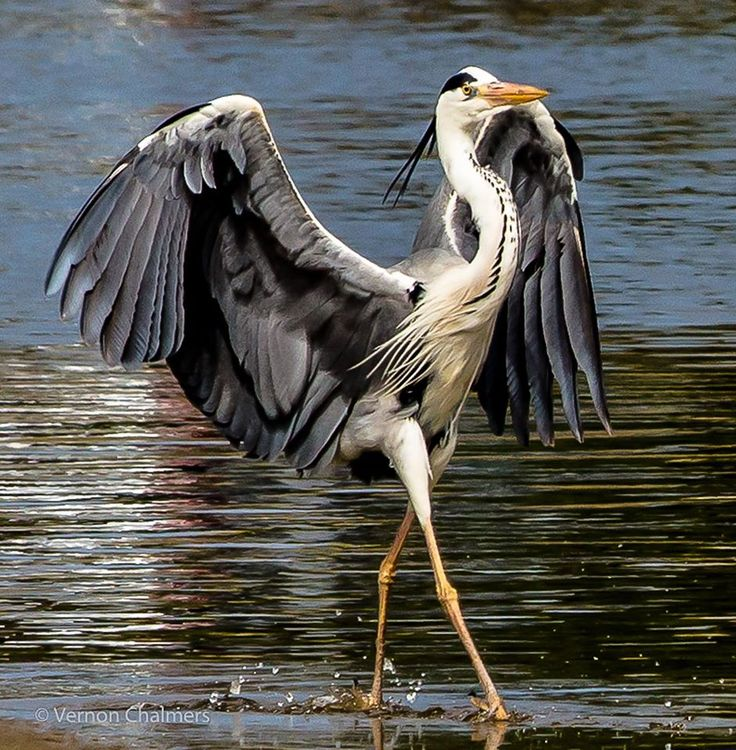heron: (48, 61, 626, 734)
